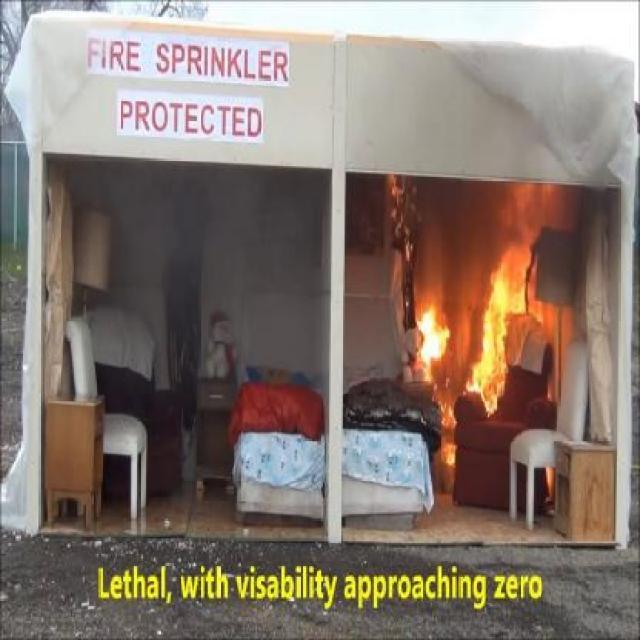fire: (400, 222, 554, 422)
smoke: (130, 144, 338, 330)
